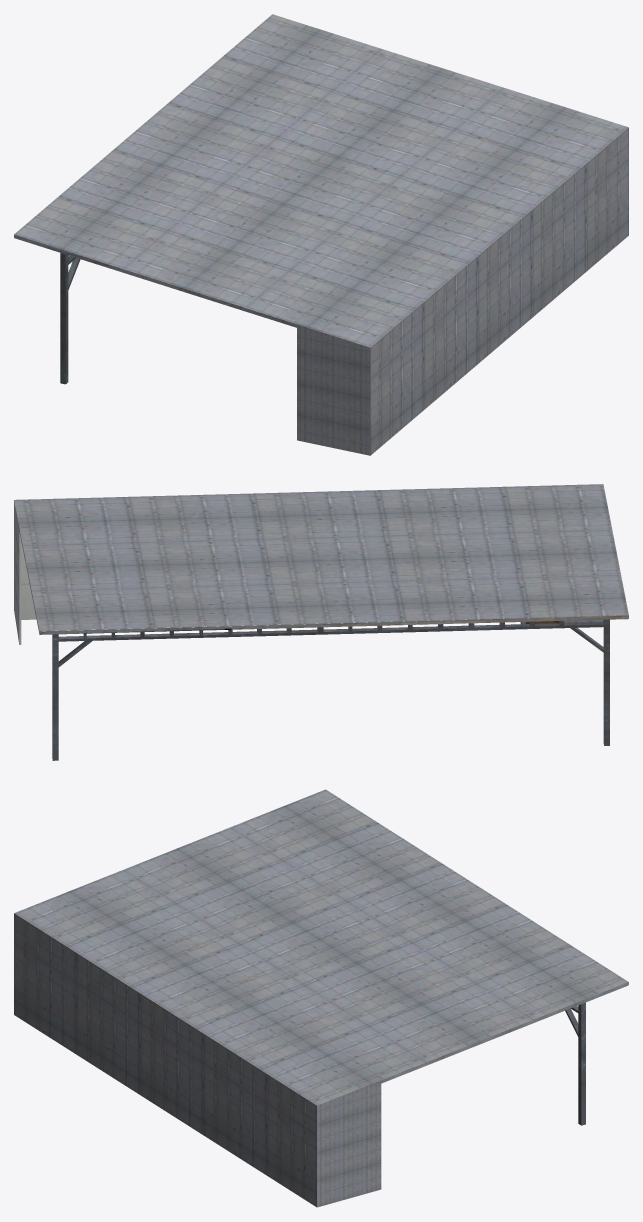
File: llmg_bld2.gltf
3 renders of one model, top to bottom at view 1: azimuth 30°, elevation 25°; view 2: azimuth 150°, elevation 25°; view 3: azimuth 270°, elevation 25°, orthographic. The views are drawn at different scales.
Visible parts, largest first — view 1: node1; view 2: node1; view 3: node1.
Boxes of the visible parts, box(x1,y1,x2,y2) form: node1: box(14, 14, 628, 455); node1: box(14, 484, 628, 760); node1: box(14, 789, 628, 1207).
Bounding box in the file's own units: 17.77 × 4.08 × 16.48.
